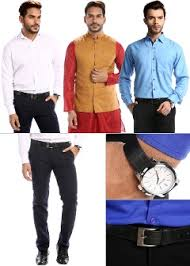F_belt: (102, 213, 190, 252), (11, 85, 57, 103), (30, 137, 73, 156)
F_dress pants: (26, 148, 87, 250)
F_shirt: (3, 31, 61, 107)
